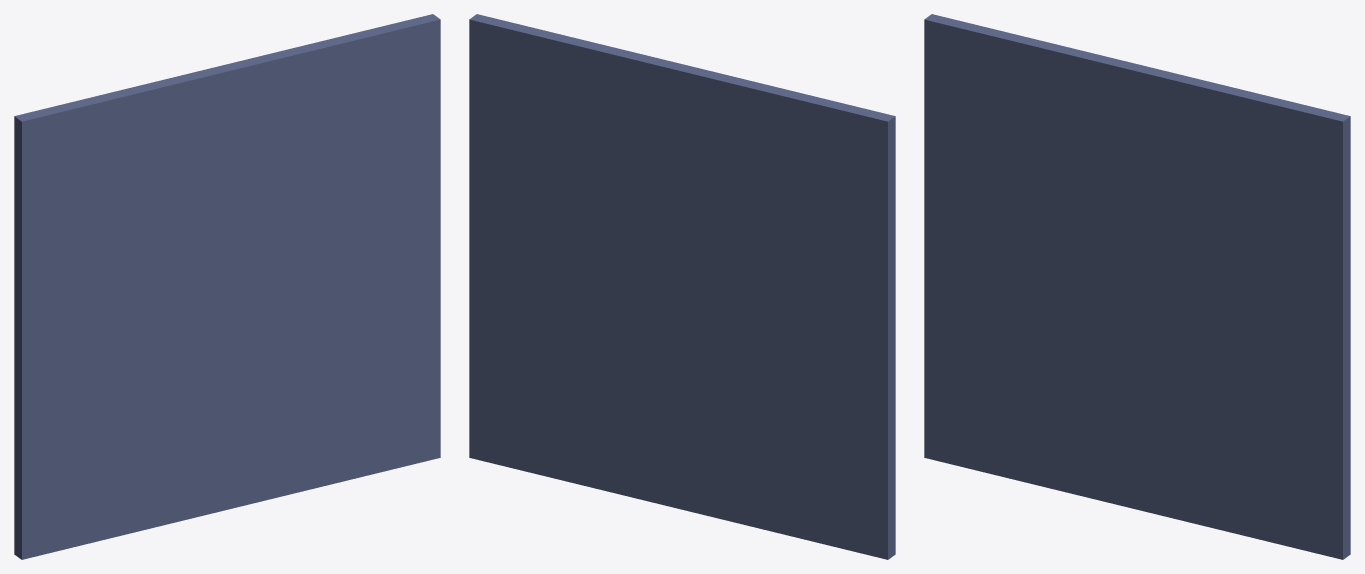
The model's file is wall_textured_e_8_tall_sky_col.gltf.
3 renders of one model, left to right at view 1: azimuth 30°, elevation 25°; view 2: azimuth 150°, elevation 25°; view 3: azimuth 330°, elevation 25°, orthographic.
Parts seen in each view (by area): view 1: wall_textured_e_8_tall_sky_col; view 2: wall_textured_e_8_tall_sky_col; view 3: wall_textured_e_8_tall_sky_col.
Boxes of the visible parts, left/top/right/bottom form: wall_textured_e_8_tall_sky_col: left=14, top=14, right=440, bottom=559; wall_textured_e_8_tall_sky_col: left=469, top=14, right=895, bottom=559; wall_textured_e_8_tall_sky_col: left=924, top=14, right=1350, bottom=559.
Size of the model in its own units: 8 by 8 by 0.25.
1 material, 1 textured.
